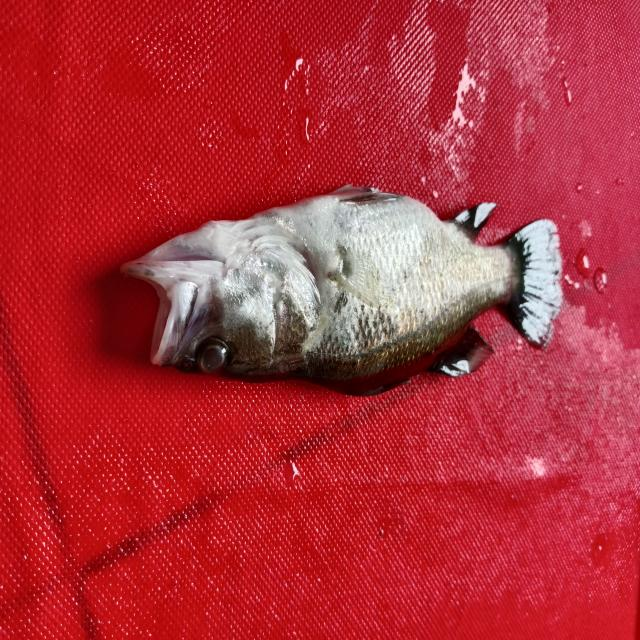ikan: (99, 141, 586, 406)
